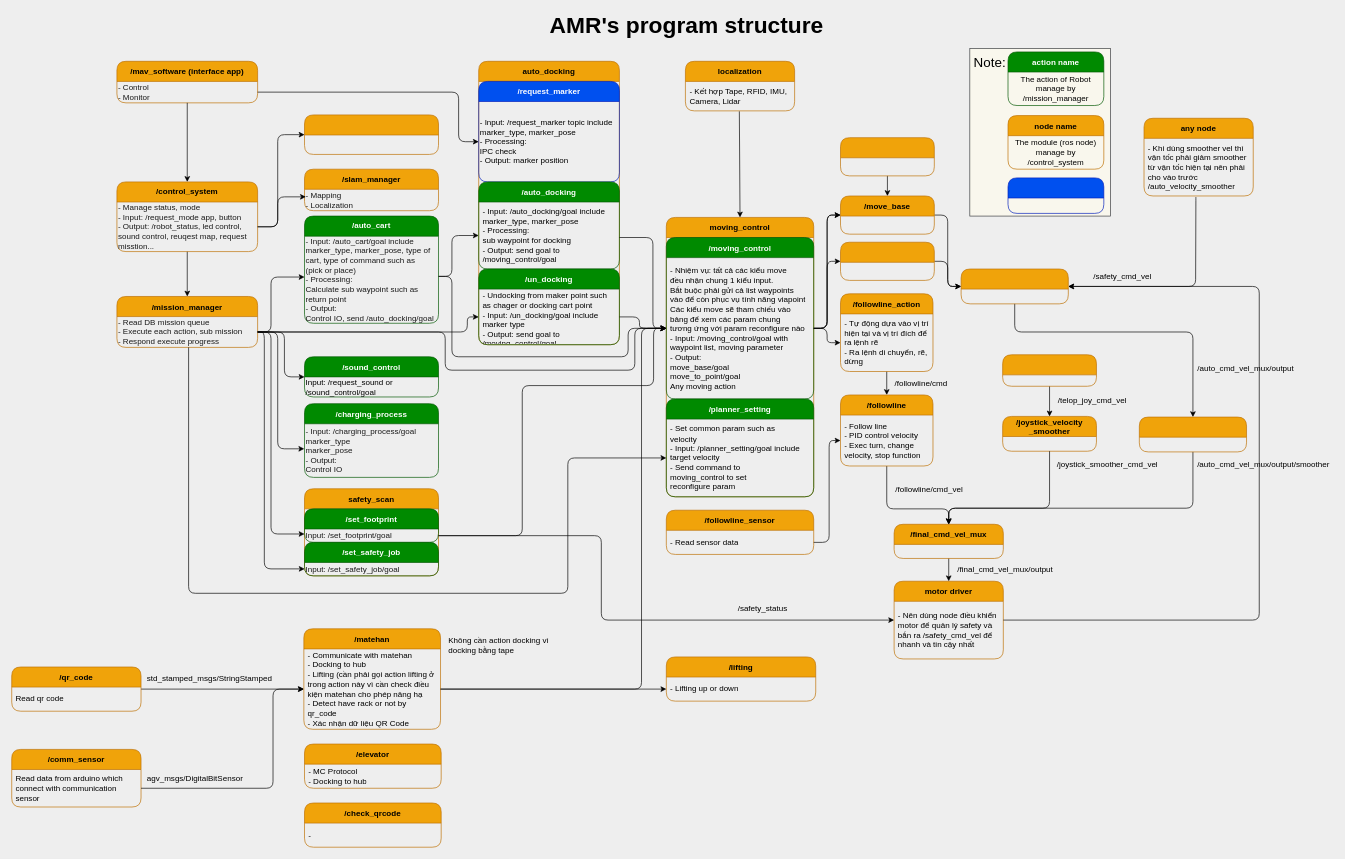
Image size: 1345x859. Some labels were removed from this diagram. The centre of each missing label's shape, as x and y in pixels:
"/auto_cmd_vel_mux" belongs at (x=1014, y=286).
"/auto_velocity _smoother" belongs at (x=1193, y=434).
"/led_control" belongs at (x=371, y=134).
"/move_base_manager" belongs at (x=887, y=156).
"/move_to_point" belongs at (x=887, y=261).
"joystick" belongs at (x=1049, y=370).
"topic name" belongs at (x=1055, y=195).
